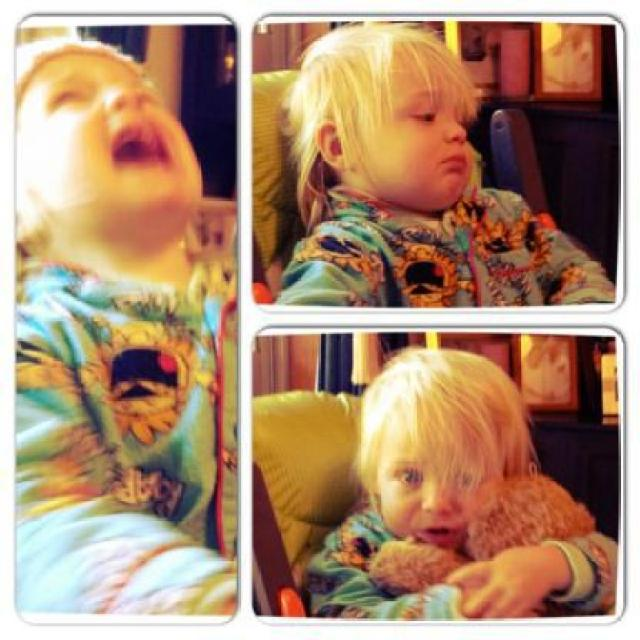Person: (1, 54, 239, 586), (271, 24, 617, 310), (293, 341, 616, 617)
